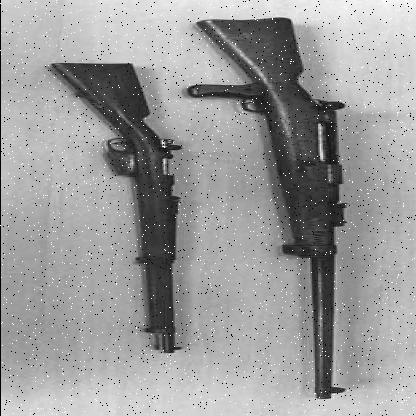rifle: (193, 1, 416, 393), (24, 57, 212, 360)
